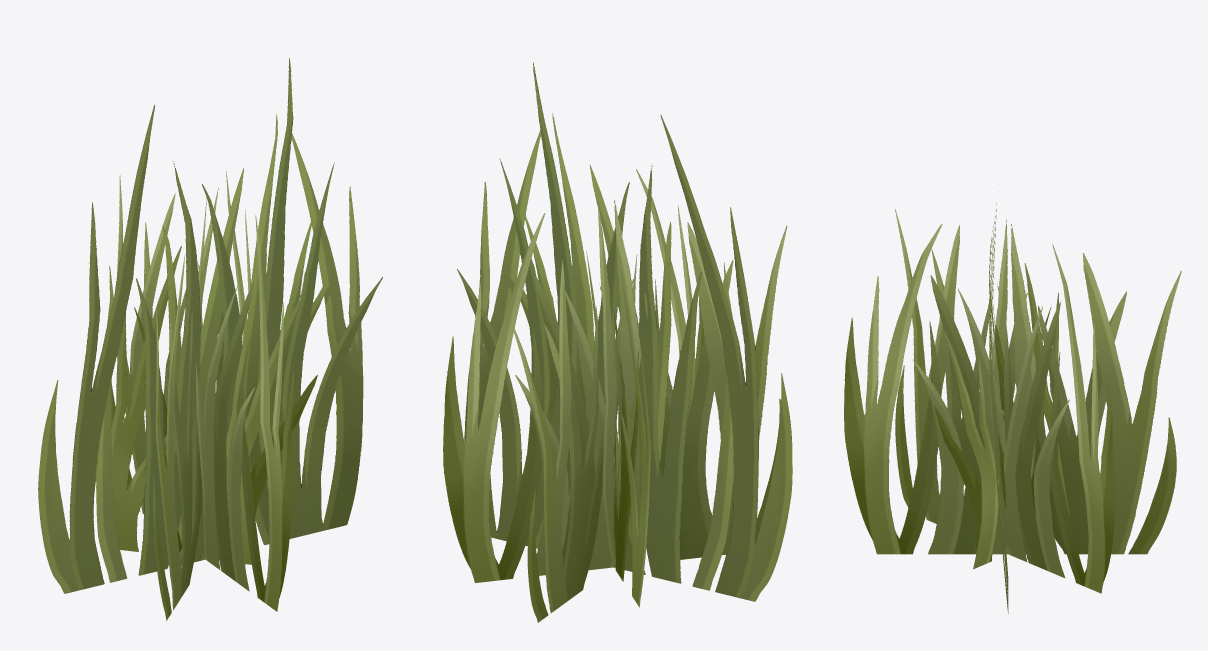
Rendered from GrassChunk1.fbx.
3 renders of one model, left to right at view 1: azimuth 30°, elevation 25°; view 2: azimuth 150°, elevation 25°; view 3: azimuth 270°, elevation 25°, orthographic. The views are drawn at different scales.
Visible parts, largest first — view 1: GrassChunk1; view 2: GrassChunk1; view 3: GrassChunk1.
Part boxes in pixels (<box>): GrassChunk1: <box>38,58,382,620</box>; GrassChunk1: <box>443,62,792,622</box>; GrassChunk1: <box>844,197,1181,613</box>.
Bounding box in the file's own units: 0.698 × 0.8958 × 0.6457.
